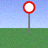sign: (23, 1, 35, 34)
